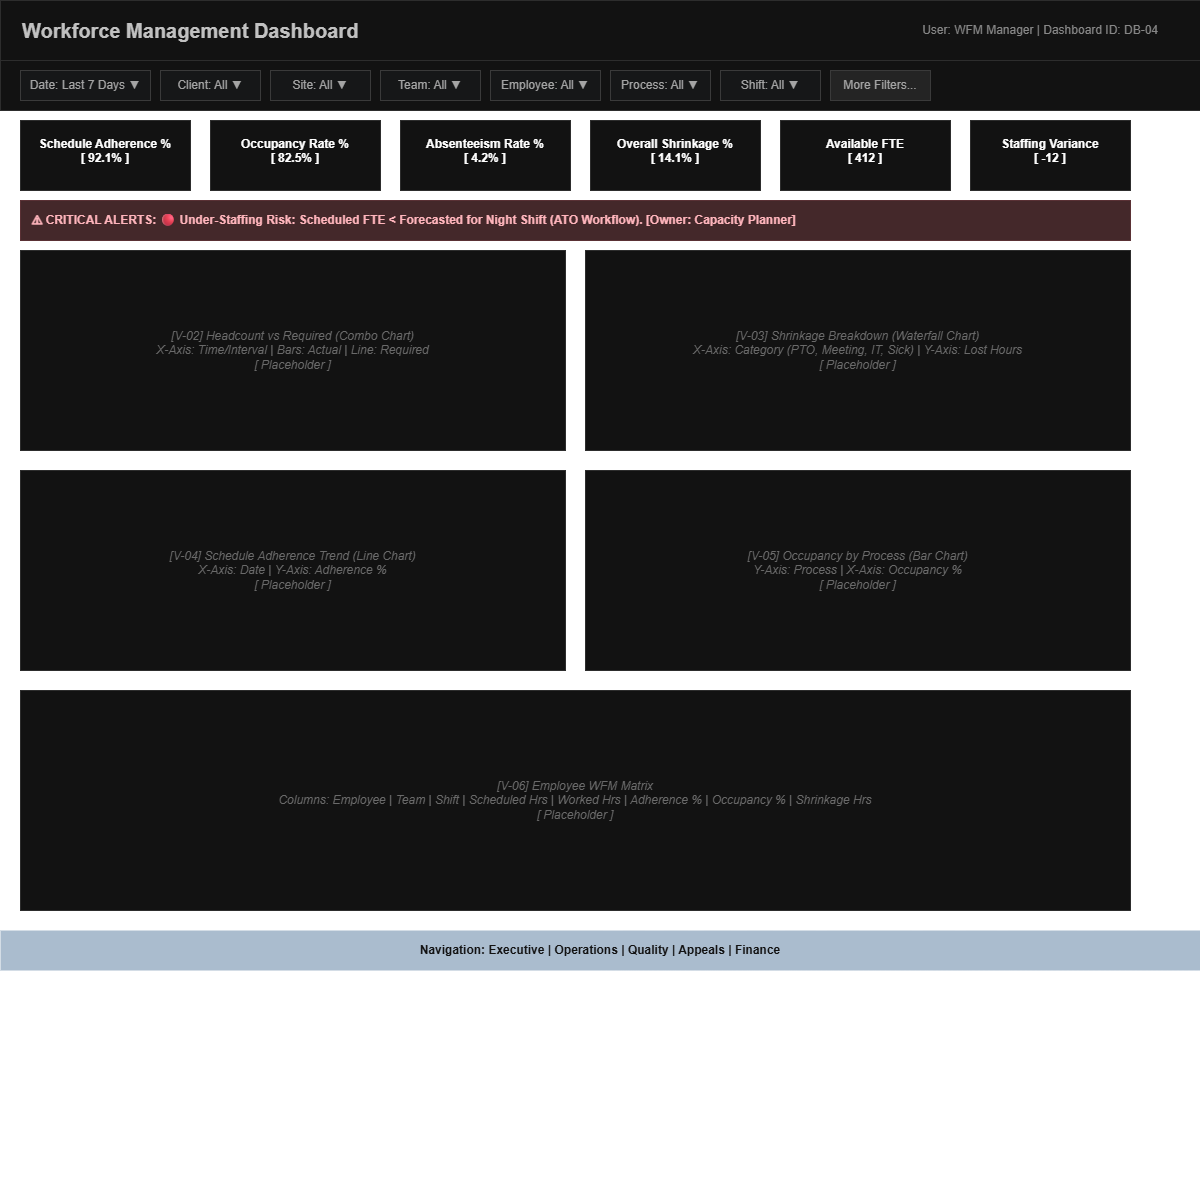

What the dashboard file says about the page in this screenshot:
{"tool":"powerbi","page":{"name":"Workforce Management","canvas":[1920,1080],"ordinal":3},"visuals":[{"type":"cardVisual","fields":{"Data":["Measure.Total Workforce Hours","Measure.Scheduled Hours","Measure.Logged Hours","Measure.Capacity Utilization %","Measure.Occupancy %","Measure.Schedule Adherence %","Measure.Staffing Gap","Measure.Average Daily Required HC"]},"box":[205.7,68.6,1715.7,70],"z":0},{"type":"textbox","box":[200,0,1720,46],"z":1000},{"type":"shape","box":[0,0,200,1044],"z":2000},{"type":"textbox","box":[0,0,202.7,90.5],"z":3000},{"type":"pageNavigator","box":[1.7,120,200,158.3],"z":4000},{"type":"shape","box":[0,345.6,200.9,734.7],"z":5000},{"type":"textbox","box":[0,345.7,200,38.3],"z":6000},{"type":"slicer","fields":{"Values":["vw_Operations_Dashboard.Full_Date"]},"box":[0,416,200,124.5],"z":7000},{"type":"textbox","box":[0,391.5,200,25.5],"z":8000},{"type":"slicer","fields":{"Values":["vw_Operations_Dashboard.Client_Name"]},"box":[0,568.1,200,40.4],"z":9000},{"type":"textbox","box":[0,540.4,200,27.7],"z":10000},{"type":"slicer","fields":{"Values":["vw_Operations_Dashboard.Site_Name"]},"box":[0,657.4,200,41.5],"z":11000},{"type":"textbox","box":[0,633,200,24.5],"z":12000},{"type":"slicer","fields":{"Values":["vw_Operations_Dashboard.Process_Name"]},"box":[0,755.3,200,39.4],"z":13000},{"type":"textbox","box":[0,731.9,200,23.4],"z":14000},{"type":"slicer","fields":{"Values":["vw_Operations_Dashboard.Team_Name"]},"box":[0,848.3,200,40],"z":15000},{"type":"textbox","box":[0,820,200,23.3],"z":16000},{"type":"actionButton","box":[0,1022.5,200,40],"z":17000},{"type":"textbox","box":[200.9,1062.3,1719.2,18.1],"z":18000},{"type":"lineClusteredColumnComboChart","title":"Scheduled vs Logged Workforce Hours","fields":{"Y":["Measure.Scheduled Hours"],"Y2":["Measure.Logged Hours"],"Category":["Dim_Date.Full_Date.Variation.Date Hierarchy.Year","Dim_Date.Full_Date.Variation.Date Hierarchy.Month"]},"box":[205,140,856,244],"z":19000},{"type":"clusteredBarChart","title":"Capacity Utilization by Site","fields":{"Category":["Dim_Site.Site_Name"],"Y":["Measure.Capacity Utilization %"]},"box":[1060,140,860,244],"z":20000},{"type":"clusteredBarChart","title":"Staffing Gap by Site","fields":{"Category":["Dim_Site.Site_Name"],"Y":["Measure.Staffing Variance"]},"box":[204,384,856,248],"z":21000},{"type":"clusteredBarChart","title":"Schedule Adherence by Site","fields":{"Y":["Measure.Schedule Adherence %"],"Category":["Dim_Site.Site_Name"]},"box":[1060.3,384,860,248],"z":22000},{"type":"clusteredColumnChart","title":"Logged Hours by Shift","fields":{"Category":["Dim_Shift.Shift_Name"],"Y":["Measure.Logged Hours"]},"box":[204.5,631.6,856,217.2],"z":23000},{"type":"clusteredColumnChart","title":"Absent Employees by Site","fields":{"Y":["Measure.Absent Employees"],"Category":["Dim_Site.Site_Name"]},"box":[1060,631.4,860,215.7],"z":24000},{"type":"pivotTable","fields":{"Rows":["Dim_Site.Site_Name"],"Values":["Measure.Scheduled Hours","Measure.Schedule Adherence %","Measure.Logged Hours","Measure.Handle Hours","Measure.Capacity Utilization %","Measure.Required Headcount","Measure.Actual Headcount","Measure.Staffing Gap"]},"box":[204.5,848.7,856,213.5],"z":25000},{"type":"cardVisual","fields":{"Data":["Measure.Last Refresh Date"]},"box":[0,934.9,203.2,74.5],"z":26000},{"type":"lineChart","title":"Workforce Demand Forecast","fields":{"Category":["Dim_Date.Full_Date"],"Y":["Measure.Total Cases Handled"]},"box":[1062,849,858,213],"z":27000}]}

Visuals, with their boxes on the page's 1920x1080 design canvas (x1, y1, x2, y2). These are canvas units, not pixel positions in the 1200x1200 screenshot, which may show the page scaled, cropped or inside an application window:
cardVisual - Measure.Total Workforce Hours x Measure.Scheduled Hours: bbox=[206, 69, 1921, 139]
textbox: bbox=[200, 0, 1920, 46]
shape: bbox=[0, 0, 200, 1044]
textbox: bbox=[0, 0, 203, 90]
pageNavigator: bbox=[2, 120, 202, 278]
shape: bbox=[0, 346, 201, 1080]
textbox: bbox=[0, 346, 200, 384]
slicer - vw_Operations_Dashboard.Full_Date: bbox=[0, 416, 200, 540]
textbox: bbox=[0, 392, 200, 417]
slicer - vw_Operations_Dashboard.Client_Name: bbox=[0, 568, 200, 608]
textbox: bbox=[0, 540, 200, 568]
slicer - vw_Operations_Dashboard.Site_Name: bbox=[0, 657, 200, 699]
textbox: bbox=[0, 633, 200, 658]
slicer - vw_Operations_Dashboard.Process_Name: bbox=[0, 755, 200, 795]
textbox: bbox=[0, 732, 200, 755]
slicer - vw_Operations_Dashboard.Team_Name: bbox=[0, 848, 200, 888]
textbox: bbox=[0, 820, 200, 843]
actionButton: bbox=[0, 1022, 200, 1062]
textbox: bbox=[201, 1062, 1920, 1080]
"Scheduled vs Logged Workforce Hours" lineClusteredColumnComboChart: bbox=[205, 140, 1061, 384]
"Capacity Utilization by Site" clusteredBarChart: bbox=[1060, 140, 1920, 384]
"Staffing Gap by Site" clusteredBarChart: bbox=[204, 384, 1060, 632]
"Schedule Adherence by Site" clusteredBarChart: bbox=[1060, 384, 1920, 632]
"Logged Hours by Shift" clusteredColumnChart: bbox=[204, 632, 1060, 849]
"Absent Employees by Site" clusteredColumnChart: bbox=[1060, 631, 1920, 847]
pivotTable - Dim_Site.Site_Name x Measure.Scheduled Hours: bbox=[204, 849, 1060, 1062]
cardVisual - Measure.Last Refresh Date: bbox=[0, 935, 203, 1009]
"Workforce Demand Forecast" lineChart: bbox=[1062, 849, 1920, 1062]
